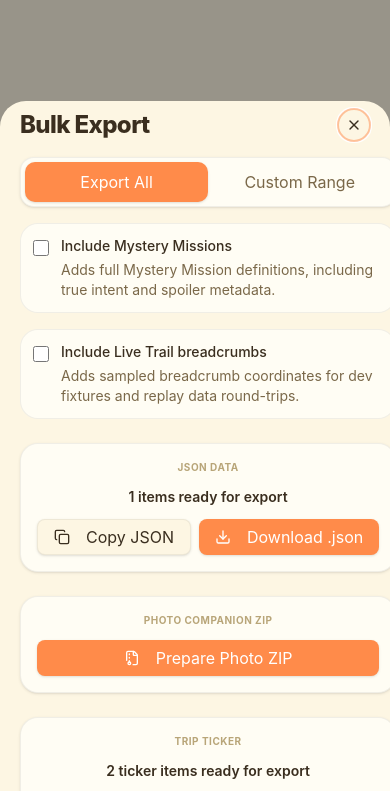
BulkExportSheet › runs a bounded export with liveTrailLimit after confirming recent-N
The width and height of the screenshot is (390, 791).
Click the checkbox labelled "Include Live Trail breadcrumbs" at (41,354), box x1=33 y1=346 x2=49 y2=362
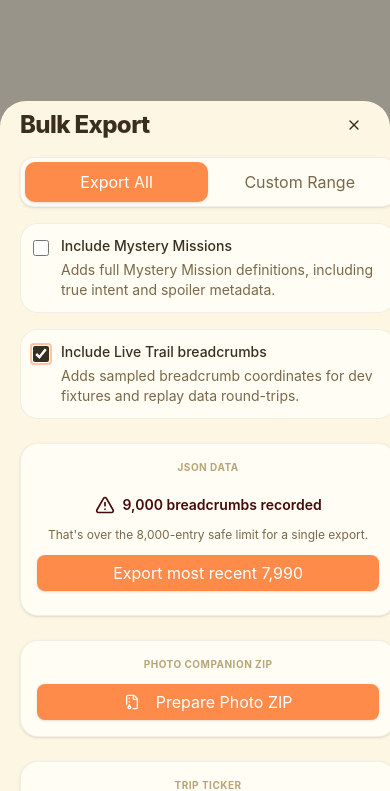
Click the button "Export most recent 7,990" at (208,573), box x1=37 y1=555 x2=379 y2=591
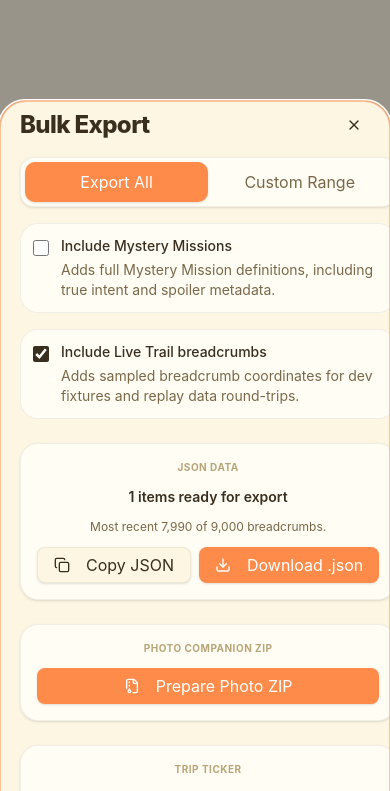
Now the text "1 items ready for export" is shown, box x1=129 y1=488 x2=288 y2=505
Now the text "Most recent 7,990 of 9,000 breadcrumbs." is shown, box x1=90 y1=519 x2=326 y2=534
